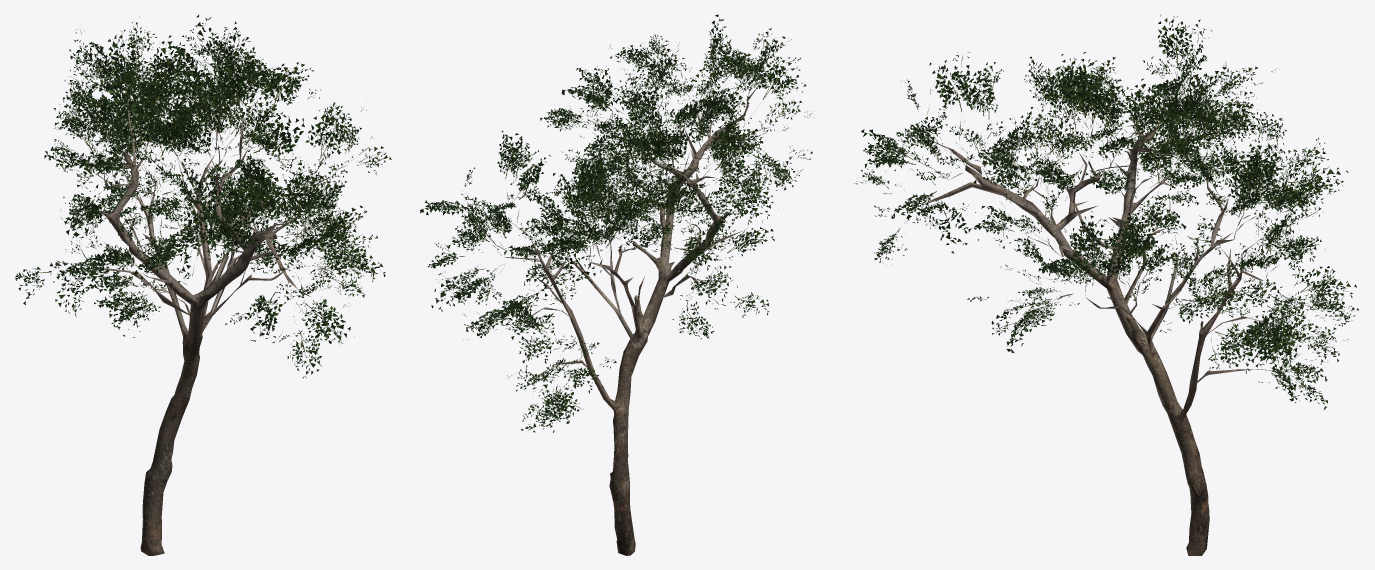
The model's file is understory.glb.
3 views of the same model, side by side, from view 1: azimuth 30°, elevation 25°; view 2: azimuth 150°, elevation 25°; view 3: azimuth 270°, elevation 25° (orthographic). The views are drawn at different scales.
Visible parts, largest first — view 1: Forest_understory; view 2: Forest_understory; view 3: Forest_understory.
Boxes of the visible parts, bbox=[...] form: Forest_understory: bbox=[15, 15, 391, 555]; Forest_understory: bbox=[420, 14, 813, 555]; Forest_understory: bbox=[854, 14, 1358, 555].
Size of the model in its own units: 2.9 by 4.58 by 4.24.
3 materials, 3 textured.
